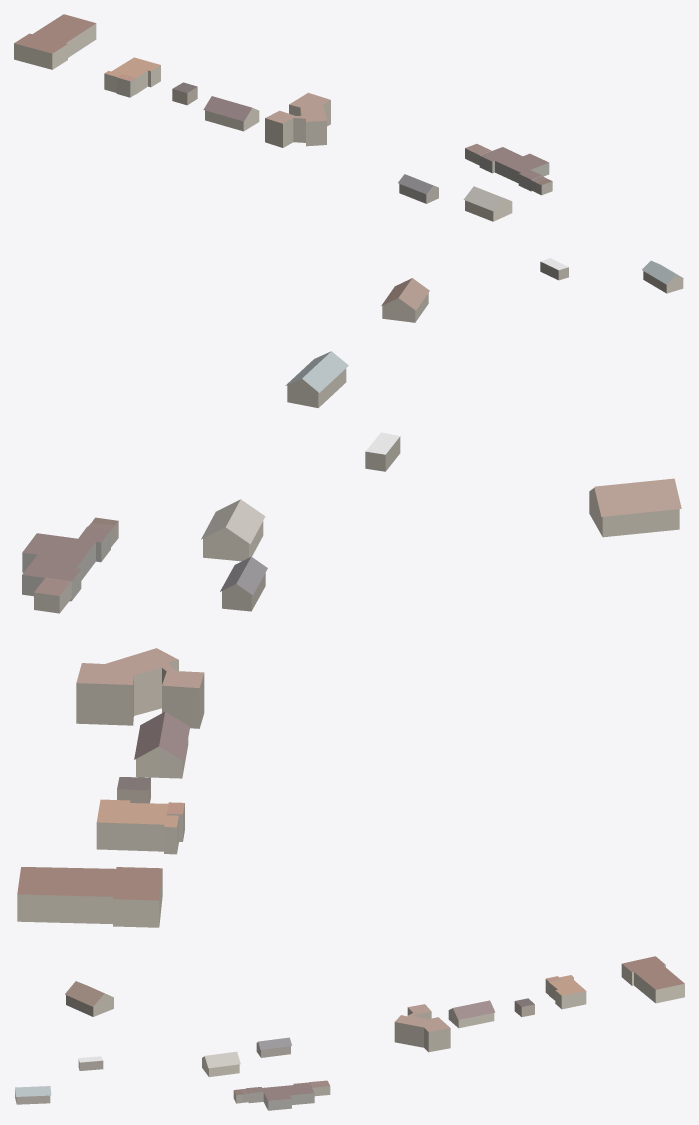
3 renders of one model, top to bottom at view 1: azimuth 30°, elevation 25°; view 2: azimuth 150°, elevation 25°; view 3: azimuth 270°, elevation 25°, orthographic. The views are drawn at different scales.
Parts seen in each view (by area): view 1: tuile; view 2: tuile; view 3: tuile.
Part boxes in pixels (x1=…): tuile: x1=14, y1=14, x2=683, y2=322; tuile: x1=17, y1=351, x2=681, y2=927; tuile: x1=15, y1=956, x2=684, y2=1110.
Size of the model in its own units: 108 by 12.47 by 247.
